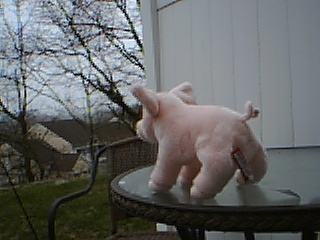piggy: (129, 80, 269, 200)
